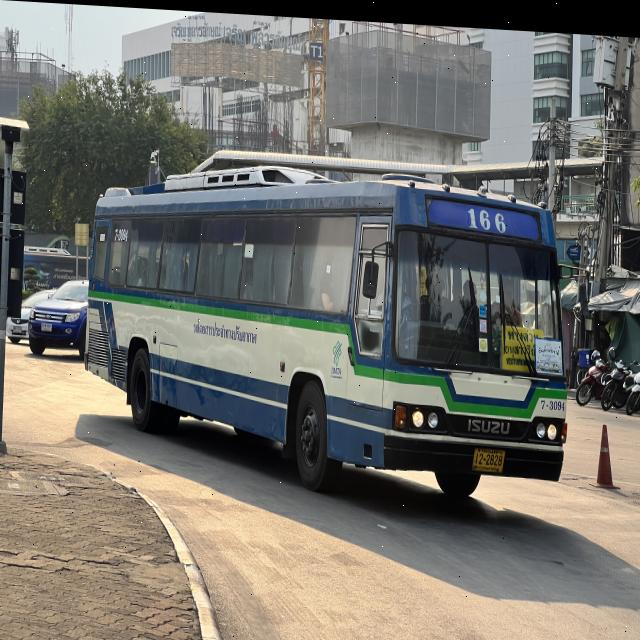BMTA-bus: (82, 170, 570, 498)
Bus Line Number: (463, 195, 509, 233)
Bus Side Number: (537, 387, 568, 408)
Destination Sign: (499, 316, 548, 365)
